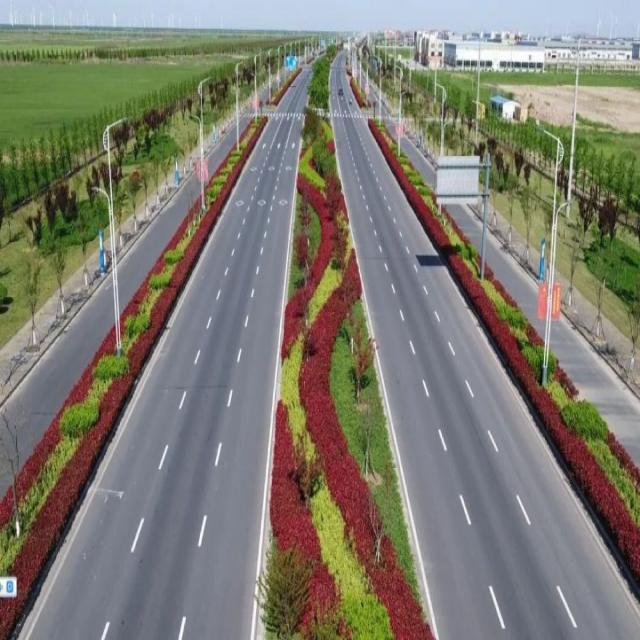point: (273, 10, 376, 129)
